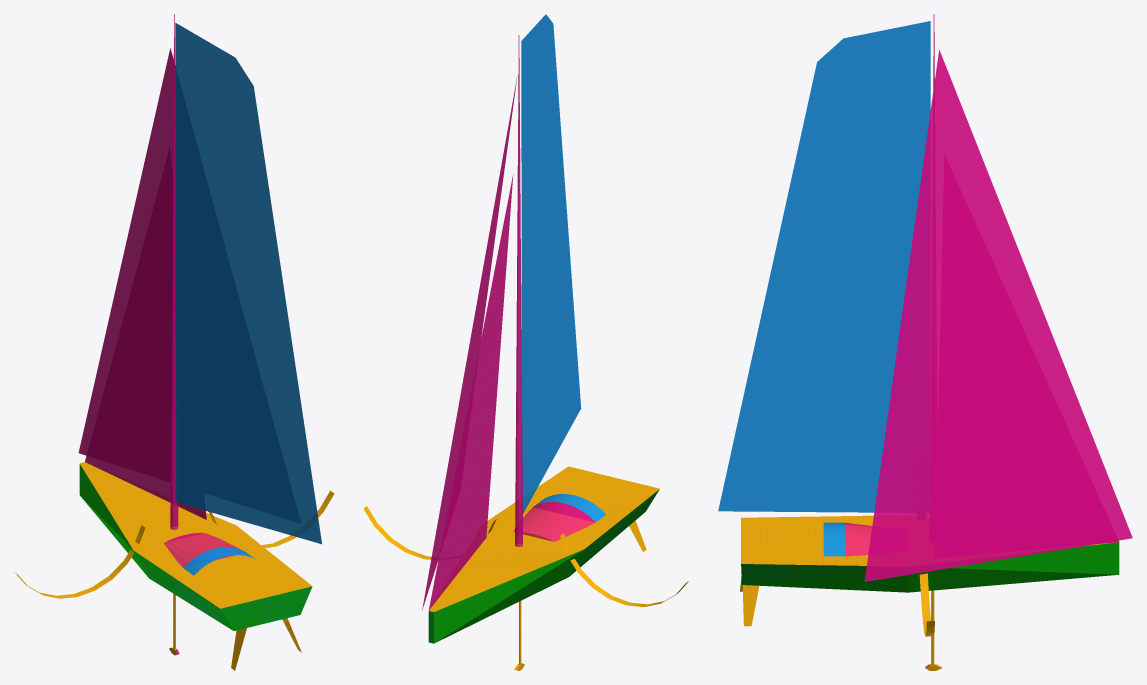
File: IMOCA_GENOIS.dae
3 views of the same model, side by side, from view 1: azimuth 30°, elevation 25°; view 2: azimuth 150°, elevation 25°; view 3: azimuth 270°, elevation 25° (orthographic). The views are drawn at different scales.
Visible parts, largest first — view 1: SketchUp (×10); view 2: SketchUp (×10); view 3: SketchUp (×7).
Boxes of the visible parts, x1=… form: SketchUp (×10): x1=14, y1=14, x2=321, y2=630; SketchUp (×10): x1=422, y1=14, x2=688, y2=643; SketchUp (×7): x1=718, y1=21, x2=1132, y2=592.
Bounding box in the file's own units: 71165 × 77671 × 135626.
